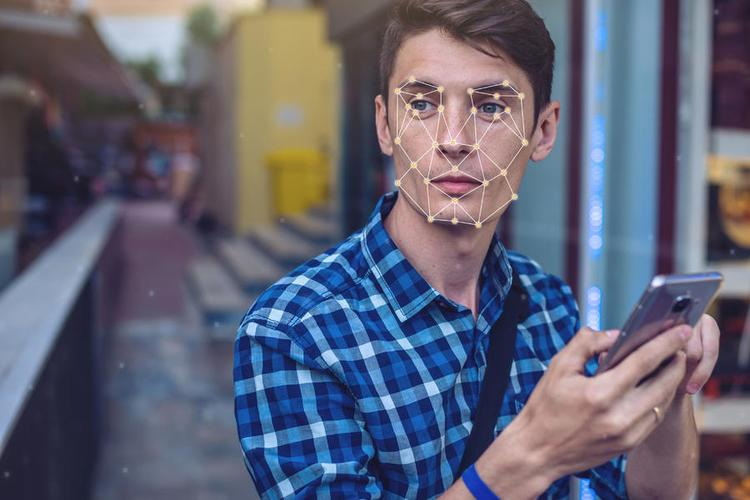nomask: (387, 41, 548, 223)
